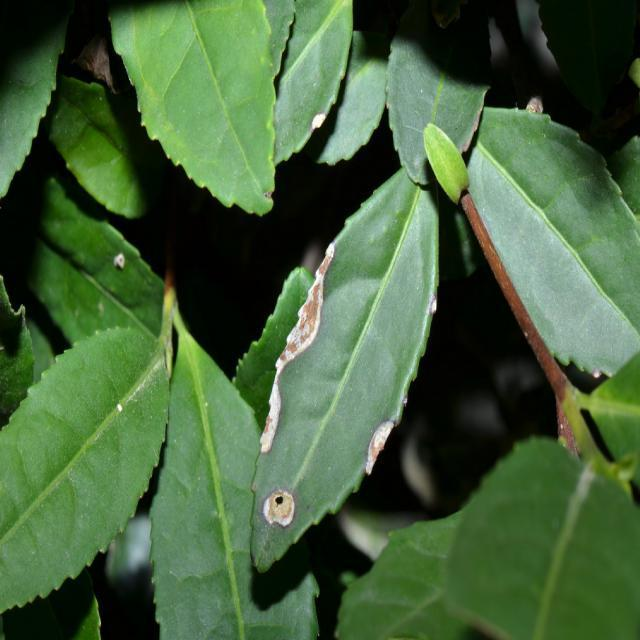Tea cloud leaf blight: (254, 244, 345, 443), (362, 408, 397, 484)
